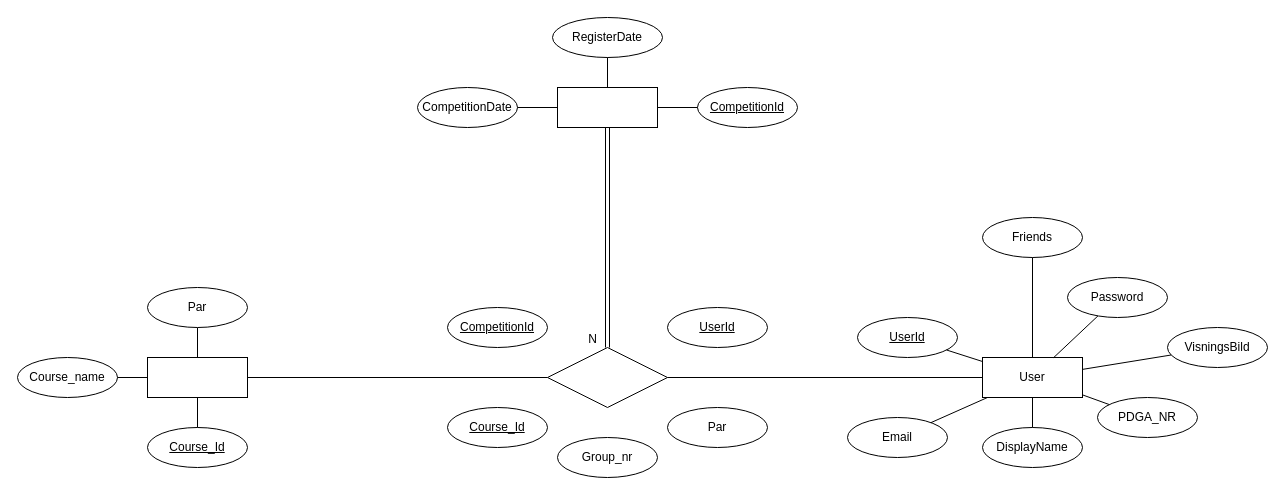
Image size: 1285x495. Some labels were removed from this diagram. Each missing label, with the centre of its shape:
"Competition" goes at point (607, 107).
"Course" goes at point (197, 377).
"Play" goes at point (607, 377).
